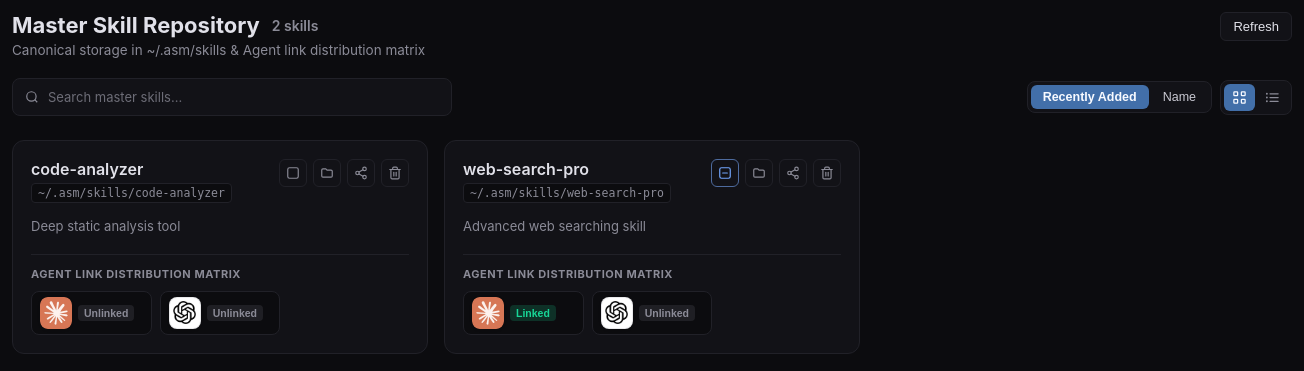
it: SkillLibrary Route › shows localized tips for every master-skill icon action
The width and height of the screenshot is (1304, 371).
Focus the button named "Link all Agents for web-search-pro". click: x=725, y=173
box: x1=711 y1=159 x2=739 y2=187
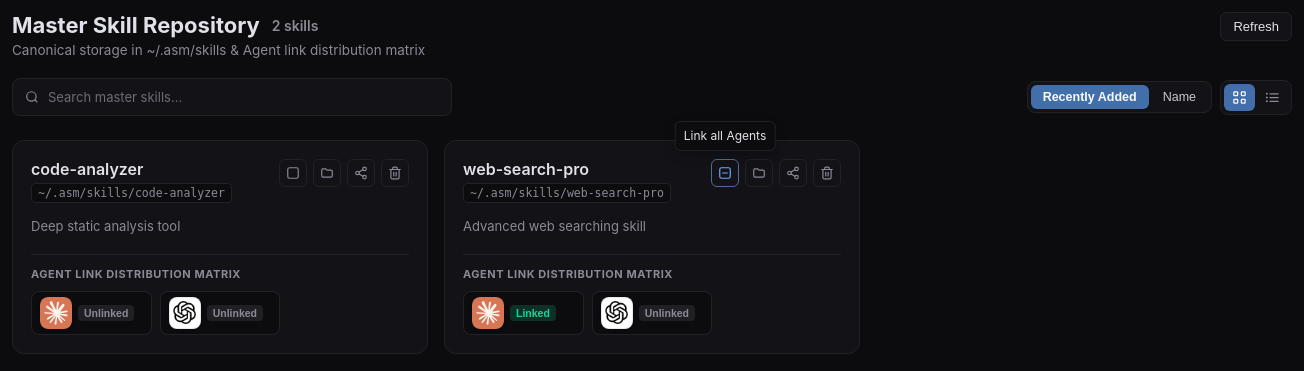
Check: the tooltip reads "Link all Agents", box x1=684 y1=128 x2=766 y2=143
Leave the button named "Link all Agents for web-search-pro", box x1=711 y1=159 x2=739 y2=187
Focus the button named "Open directory for web-search-pro". click: x=759, y=173
box: x1=745 y1=159 x2=773 y2=187
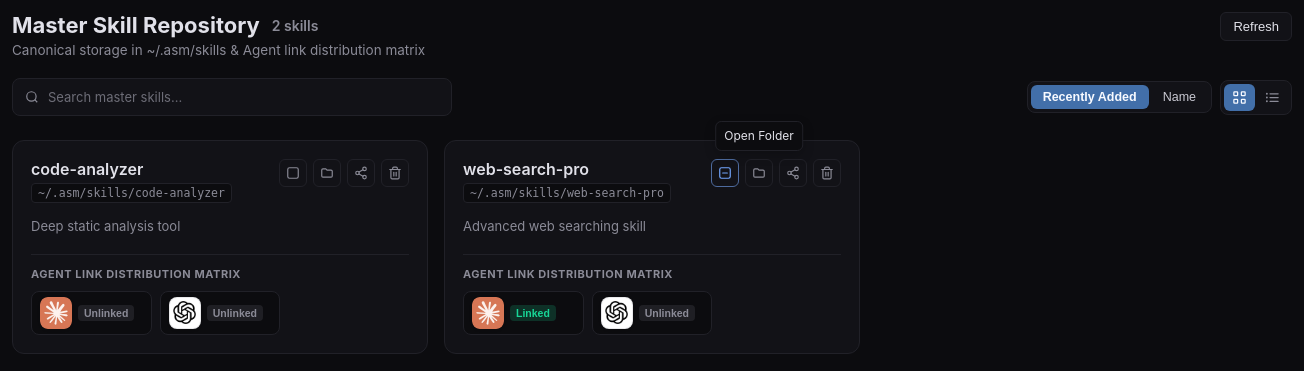
Check: the tooltip reads "Open Folder", box x1=724 y1=128 x2=794 y2=143
Leave the button named "Open directory for web-search-pro", box x1=745 y1=159 x2=773 y2=187
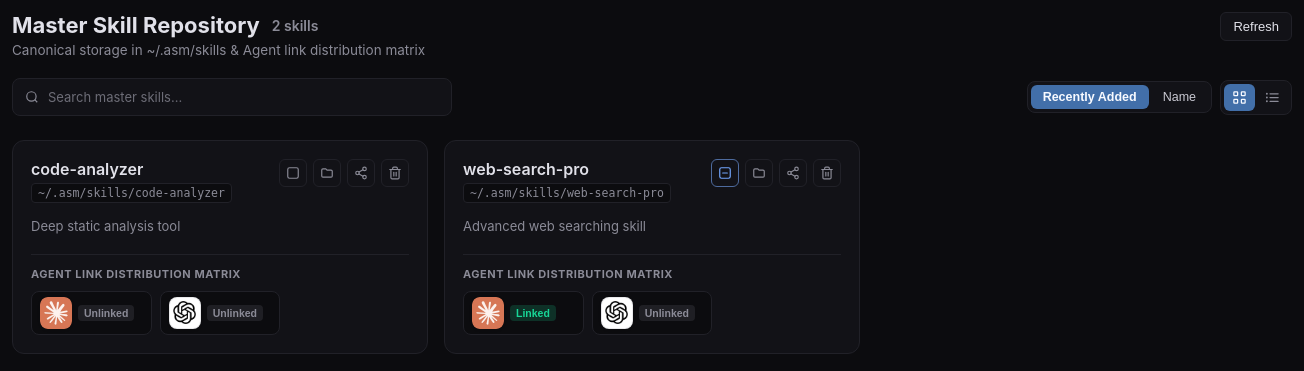
Focus the button named "Share web-search-pro". click: x=793, y=173
box: x1=779 y1=159 x2=807 y2=187
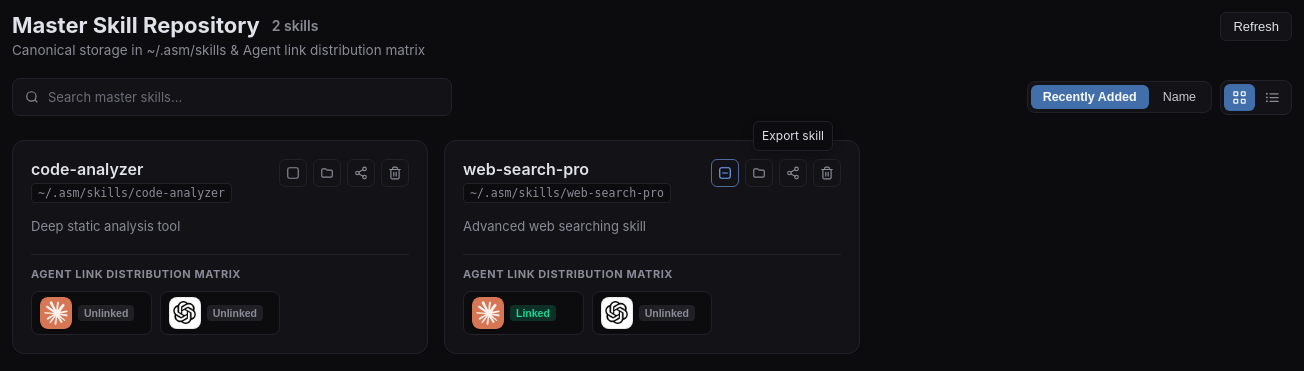
Check: the tooltip reads "Export skill", box x1=762 y1=128 x2=824 y2=143
Leave the button named "Share web-search-pro", box x1=779 y1=159 x2=807 y2=187
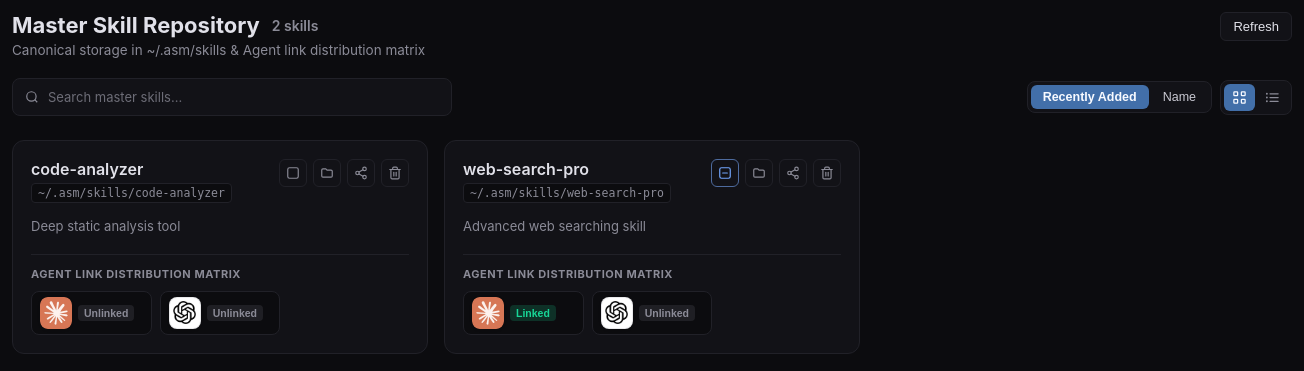
Focus the button named "Delete skill web-search-pro". click: x=827, y=173
box: x1=813 y1=159 x2=841 y2=187
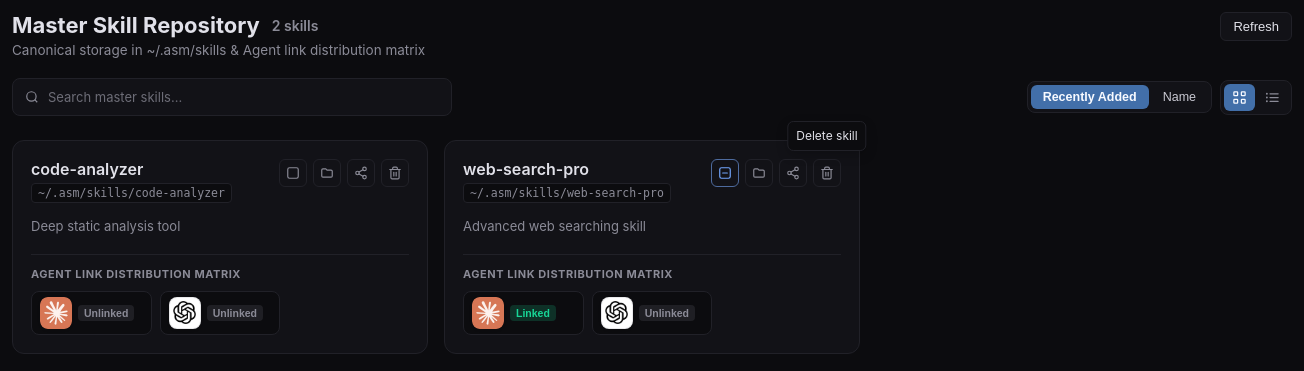
Check: the tooltip reads "Delete skill", box x1=796 y1=128 x2=858 y2=143
